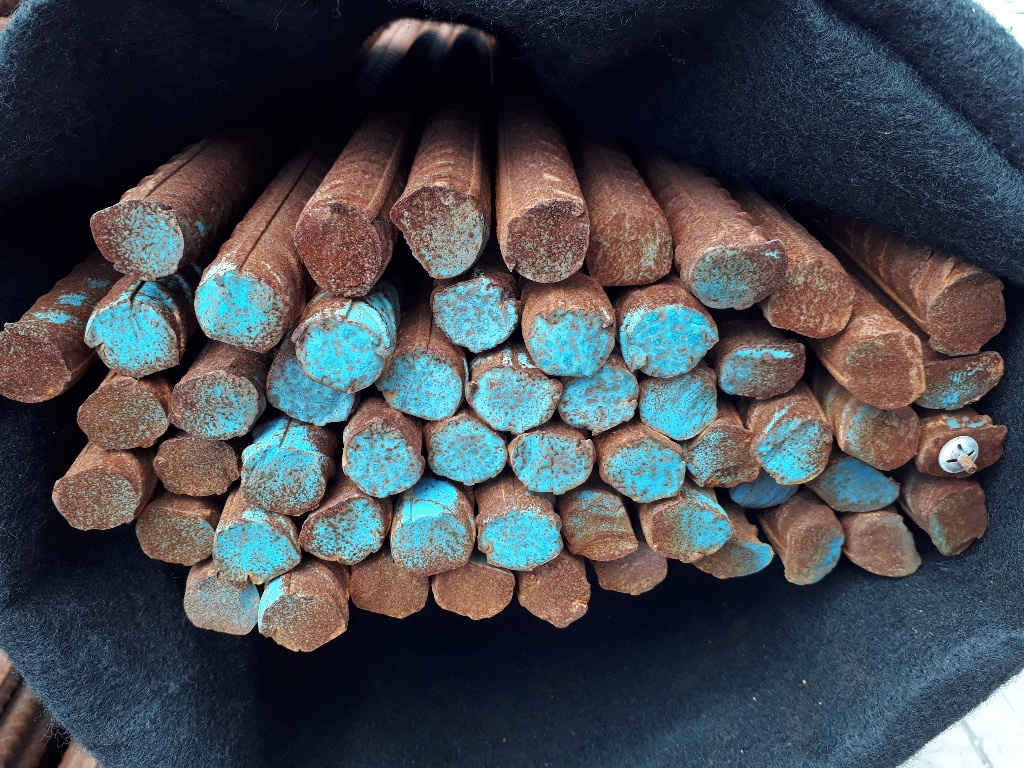dipstick: (390, 144, 497, 284), (290, 209, 380, 294), (87, 204, 186, 279), (254, 574, 349, 651), (502, 200, 590, 281), (171, 573, 266, 646), (690, 237, 787, 308), (924, 273, 1007, 355), (86, 300, 178, 373), (75, 381, 172, 450), (621, 304, 716, 372), (587, 211, 674, 285), (433, 278, 516, 354), (267, 358, 355, 428), (241, 444, 327, 515), (844, 334, 927, 407), (508, 428, 601, 492), (296, 322, 384, 389), (167, 374, 260, 437), (196, 275, 275, 349), (533, 308, 615, 378), (342, 427, 423, 496), (558, 363, 641, 429), (767, 268, 847, 336), (52, 467, 138, 530), (753, 416, 829, 487), (378, 354, 460, 419), (152, 435, 240, 495), (915, 352, 1006, 410), (639, 372, 715, 441), (470, 368, 560, 426), (299, 501, 383, 563), (517, 559, 592, 627), (392, 515, 475, 576), (650, 503, 740, 559), (476, 507, 560, 567), (134, 505, 215, 567), (4, 329, 69, 406), (430, 563, 517, 620), (431, 421, 508, 484), (348, 560, 430, 618), (682, 427, 761, 487), (214, 522, 298, 578), (604, 441, 685, 499), (920, 424, 1004, 478), (849, 406, 922, 468), (563, 489, 639, 548), (847, 518, 921, 578), (818, 457, 900, 510), (783, 522, 846, 585), (347, 435, 402, 507), (594, 548, 669, 596), (696, 535, 772, 581), (934, 487, 987, 552)
